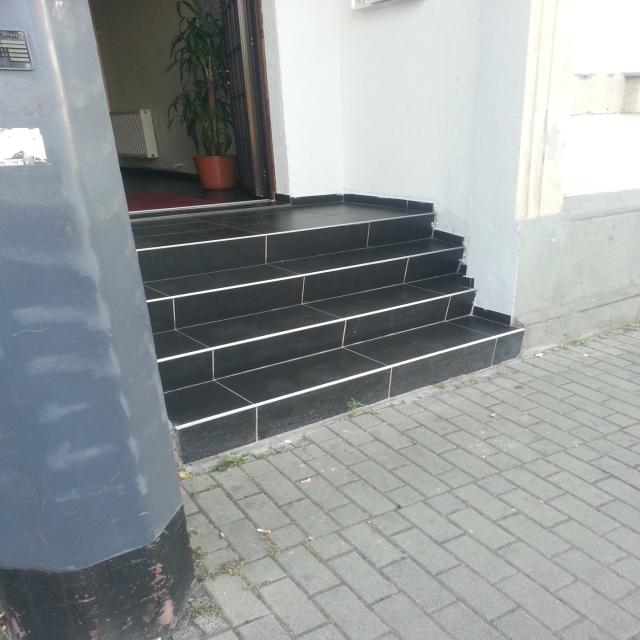AVOID: (130, 212, 516, 462)
